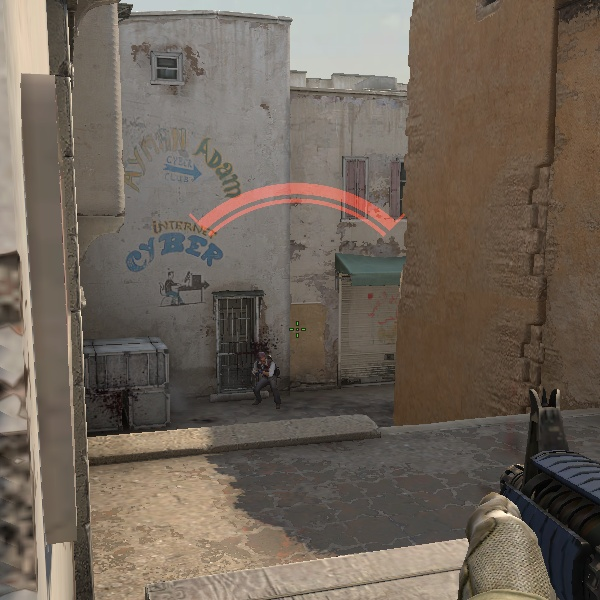t_body: (249, 350, 282, 410)
t_head: (257, 351, 267, 365)
